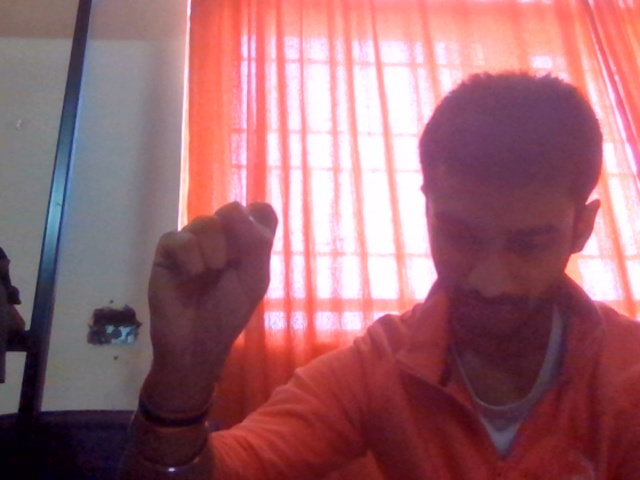S: (136, 183, 306, 410)
